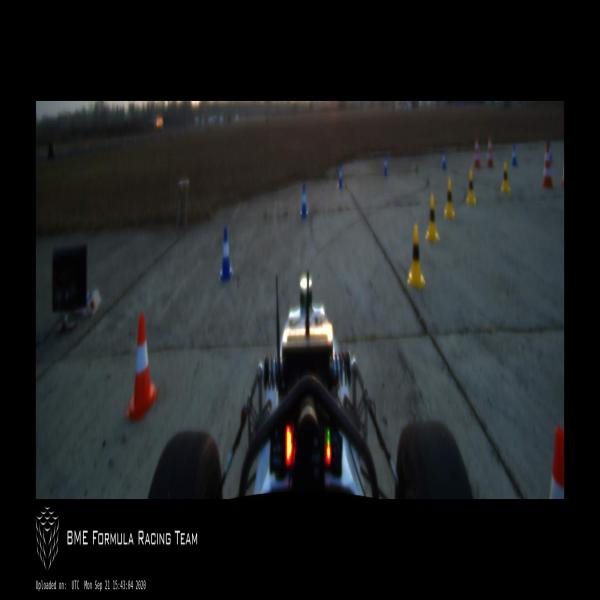blue_cone: (220, 226, 232, 280), (300, 183, 308, 217), (337, 163, 343, 187), (512, 143, 518, 166), (383, 152, 388, 174), (442, 150, 447, 170)
large_orange_cone: (542, 142, 552, 188), (473, 137, 482, 169), (486, 136, 494, 169)
orange_cone: (128, 312, 157, 415), (549, 426, 563, 499)
yellow_cone: (408, 224, 425, 286), (426, 194, 439, 242), (444, 180, 454, 216), (501, 162, 511, 193), (467, 169, 475, 203)
